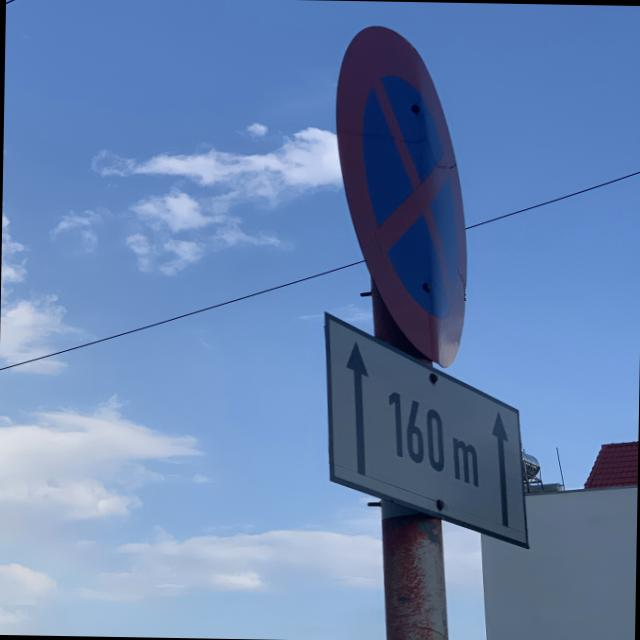Cam_Dung_Va_Dau_Xe: (329, 23, 476, 365)
